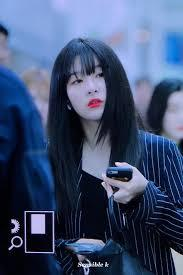earphone: (64, 100, 73, 112)
